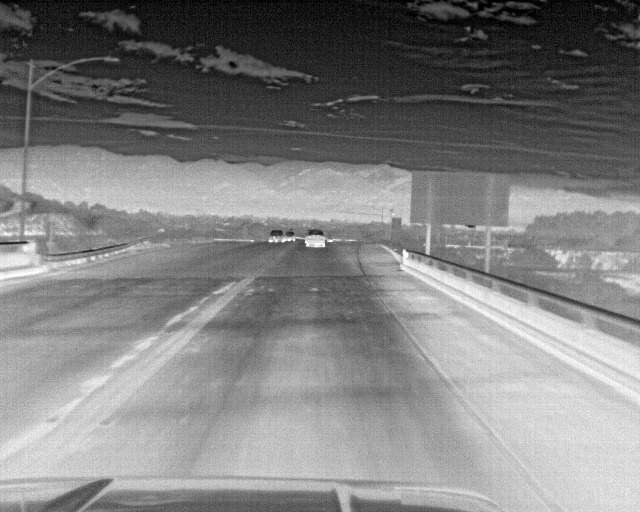vehicle: (306, 229, 329, 250), (269, 228, 289, 245)
